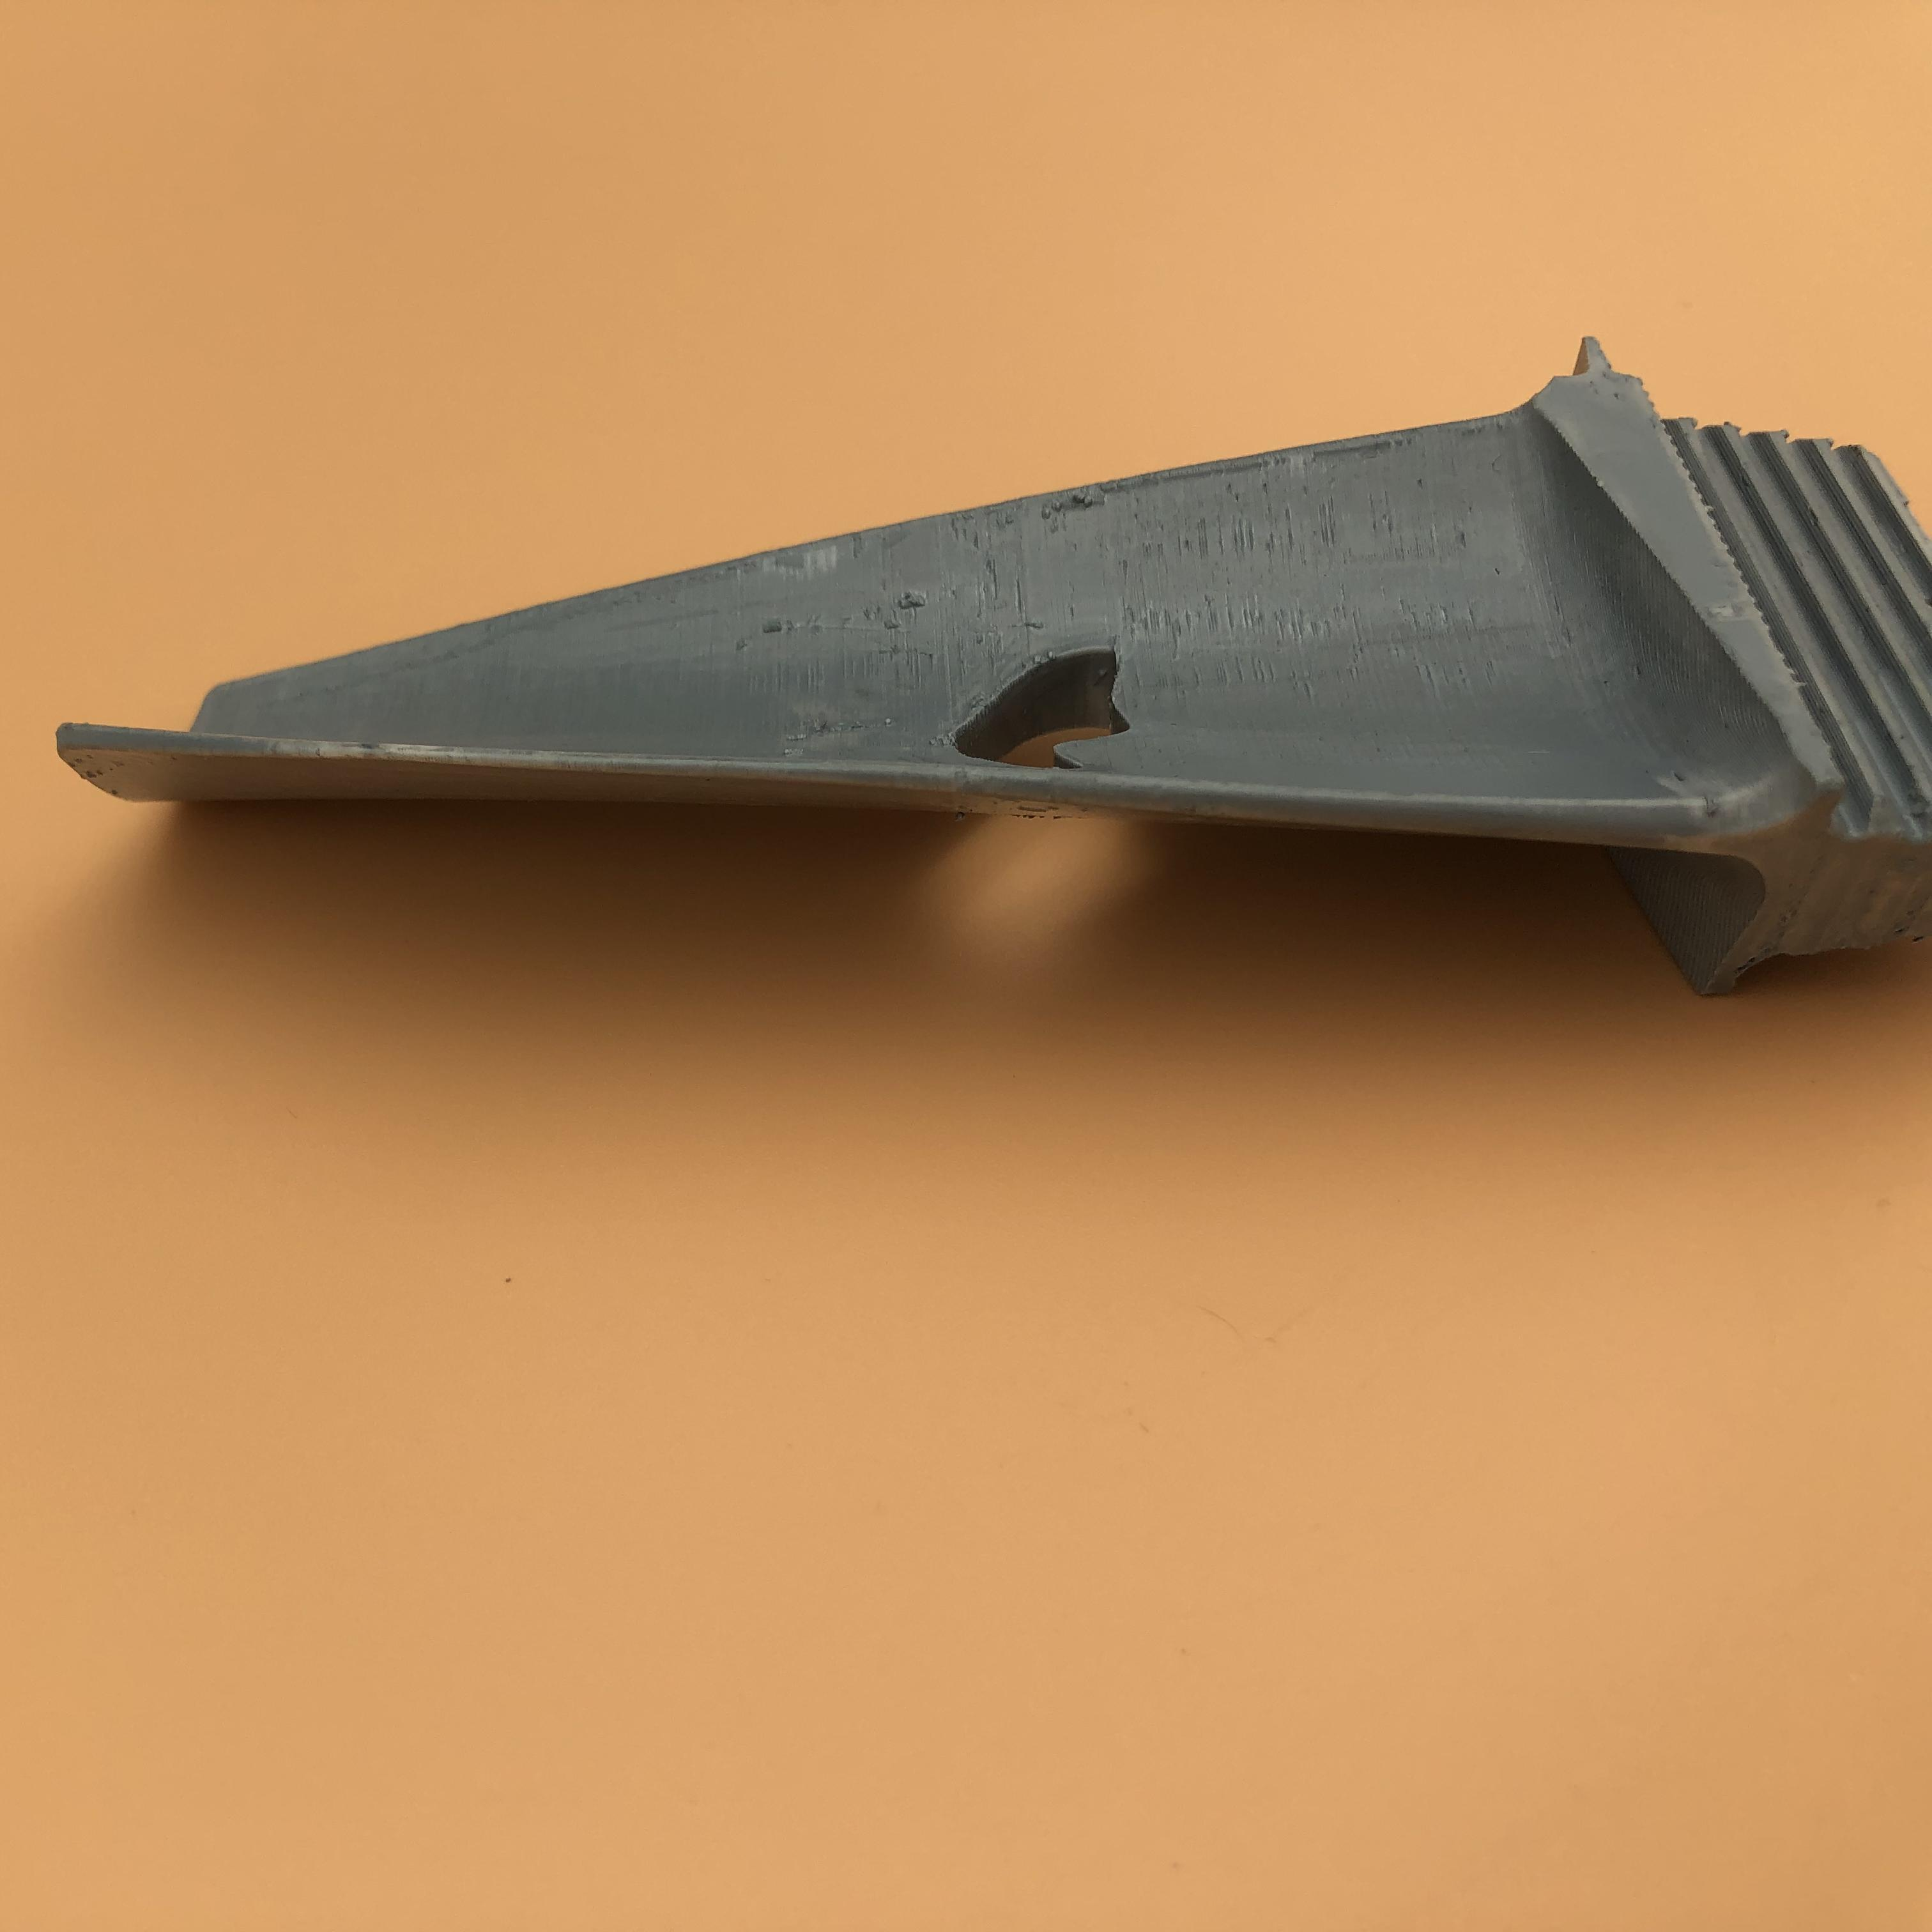breakdown: (938, 649, 1145, 778)
